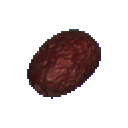gd: (13, 11, 116, 125)
